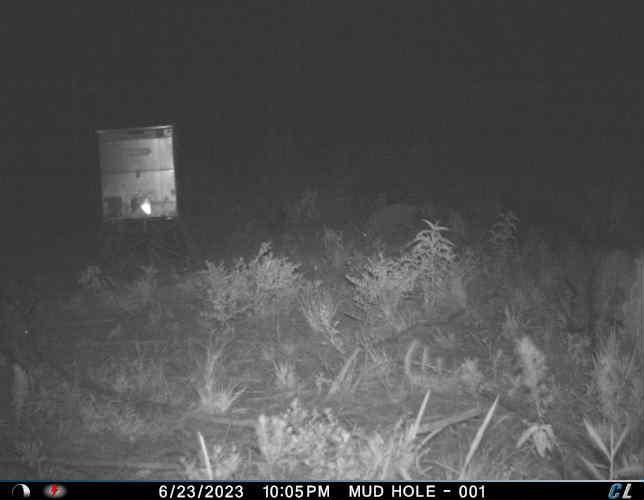Hog: (354, 199, 429, 248)
